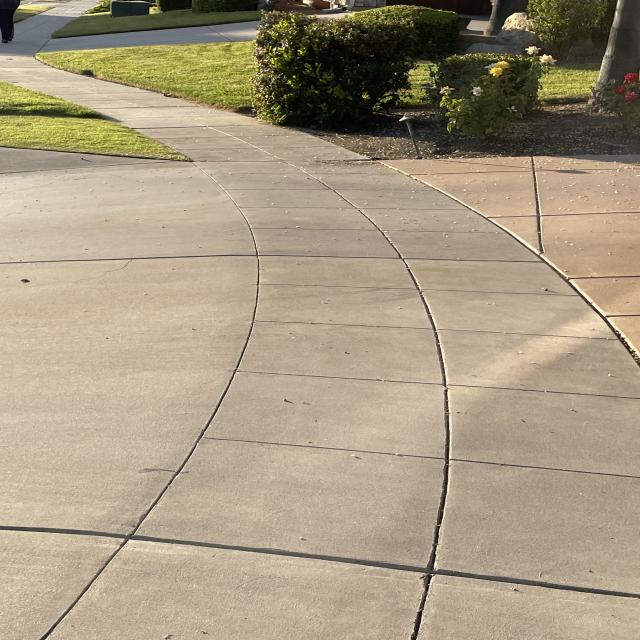walkway: (243, 428, 640, 536), (112, 562, 638, 640), (167, 496, 640, 578), (359, 356, 562, 460), (354, 280, 554, 374), (317, 222, 501, 296), (279, 183, 452, 229), (227, 150, 390, 197), (89, 88, 253, 134), (158, 123, 336, 164), (23, 67, 171, 103)
